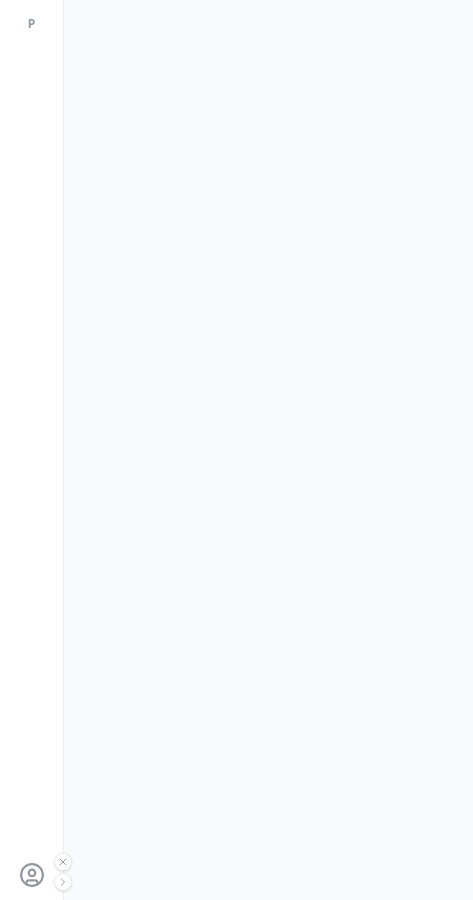
it: Sidebar disclosure accessibility › exposes the closed and open state of a nested container and its controlled panel
The image size is (473, 900).
Step 1. Click the button "P" → (32, 24), box [8,8,55,40]
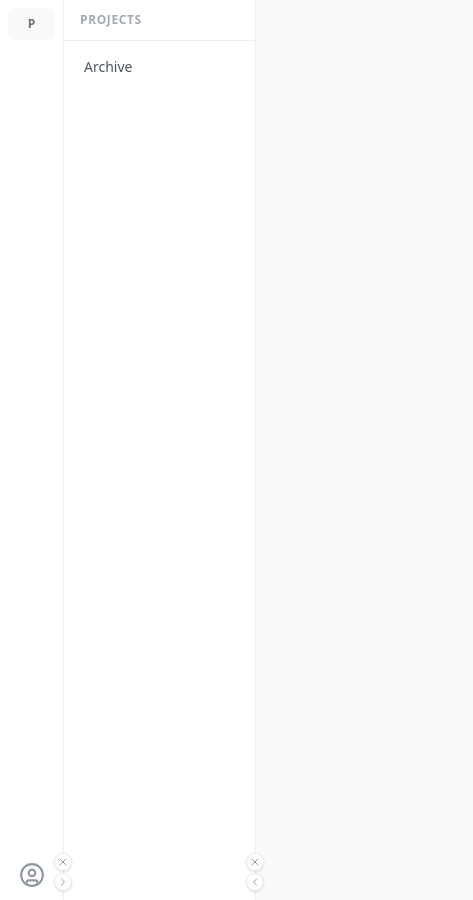
Step 2. Click the button "Archive" → (160, 67), box [72,49,247,85]
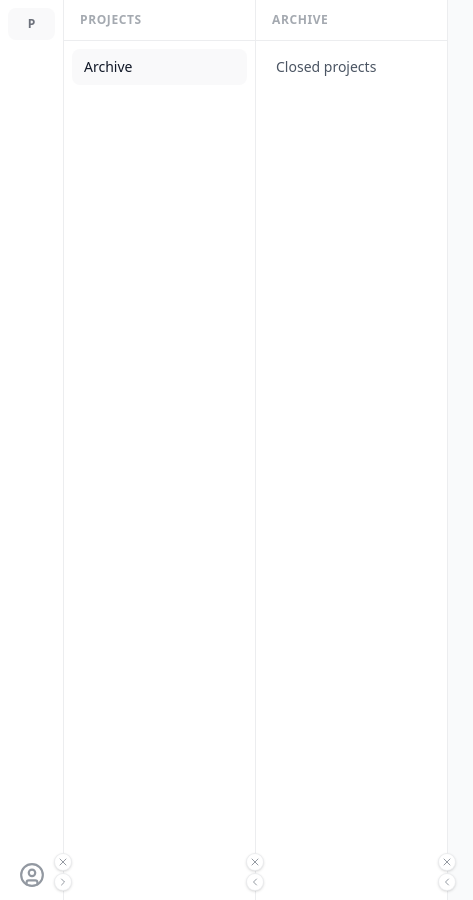
Expected: the button "Archive" is expanded
Step 3. Click the button "Archive" → (160, 67), box [72,49,247,85]
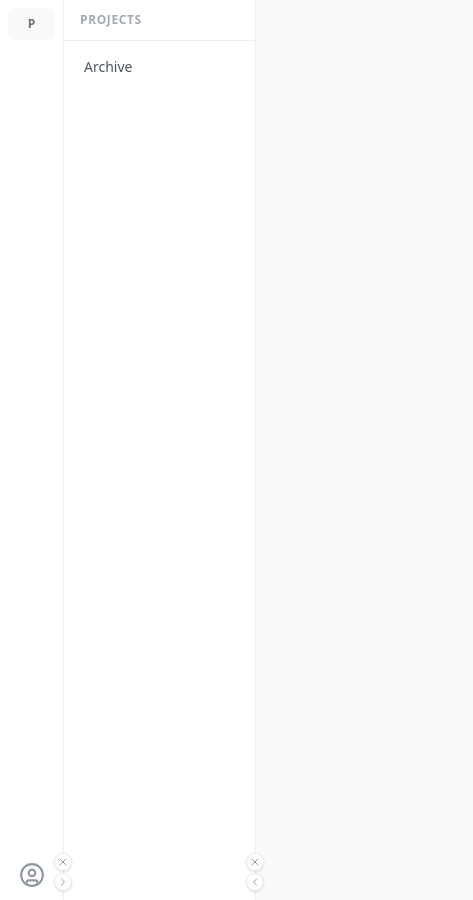
Expected: the button "Archive" is collapsed, [72,49,247,85]
